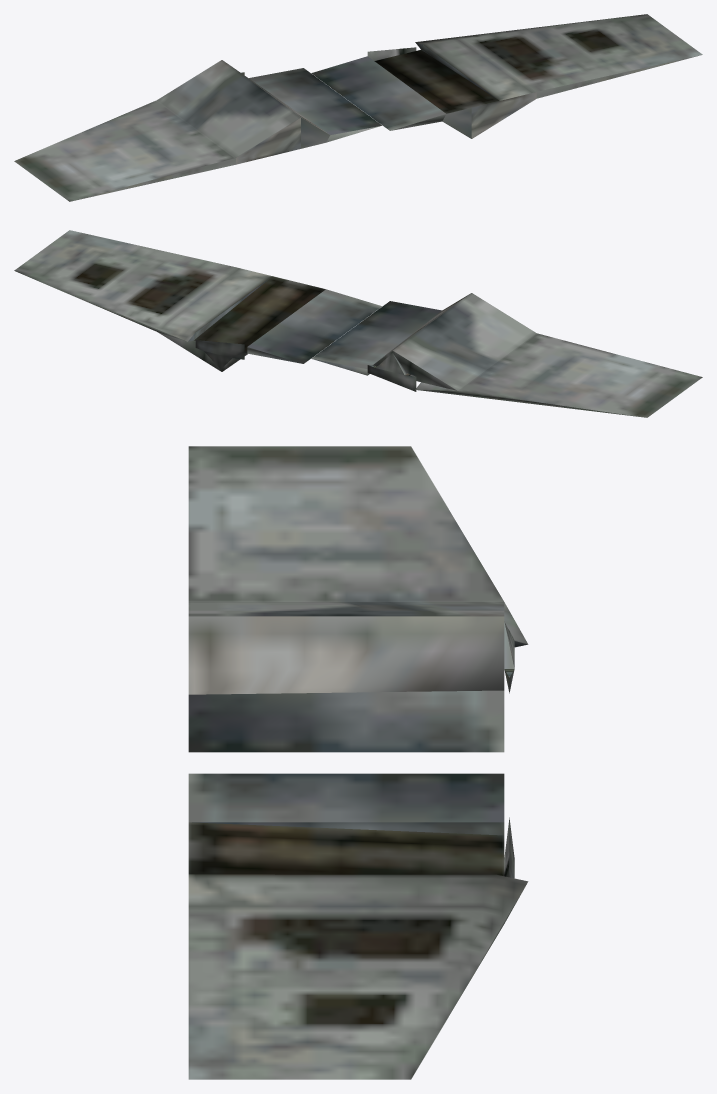
The model's file is xwing_wing_pos_l2.fbx.
3 views of the same model, one above another, from view 1: azimuth 30°, elevation 25°; view 2: azimuth 150°, elevation 25°; view 3: azimuth 270°, elevation 25° (orthographic). The views are drawn at different scales.
Parts seen in each view (by area): view 1: mesh_node; view 2: mesh_node; view 3: mesh_node.
Part boxes in pixels (left/top/right/bottom): mesh_node: left=14, top=14, right=702, bottom=201; mesh_node: left=14, top=230, right=702, bottom=417; mesh_node: left=188, top=446, right=528, bottom=1079.
Bounding box in the file's own units: 12.97 × 1.24 × 3.01.
Materials: 1 (1 with a texture image).
